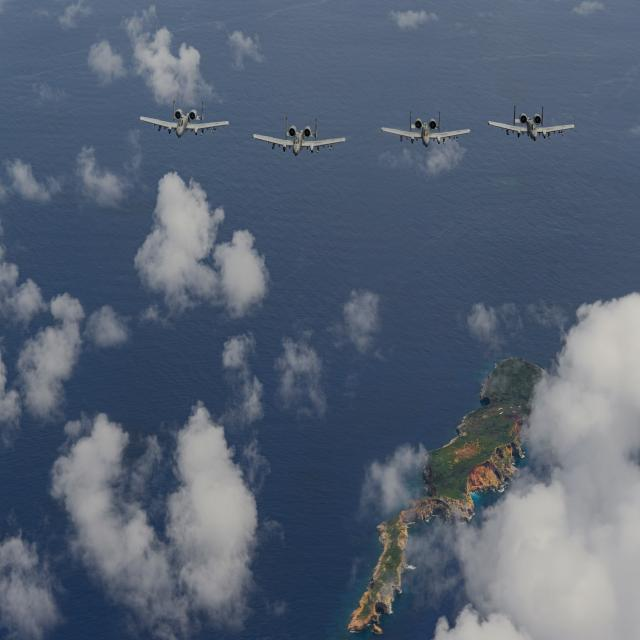MIL_Plane: (252, 116, 346, 156), (381, 110, 470, 148), (140, 100, 229, 138), (487, 105, 575, 141)
